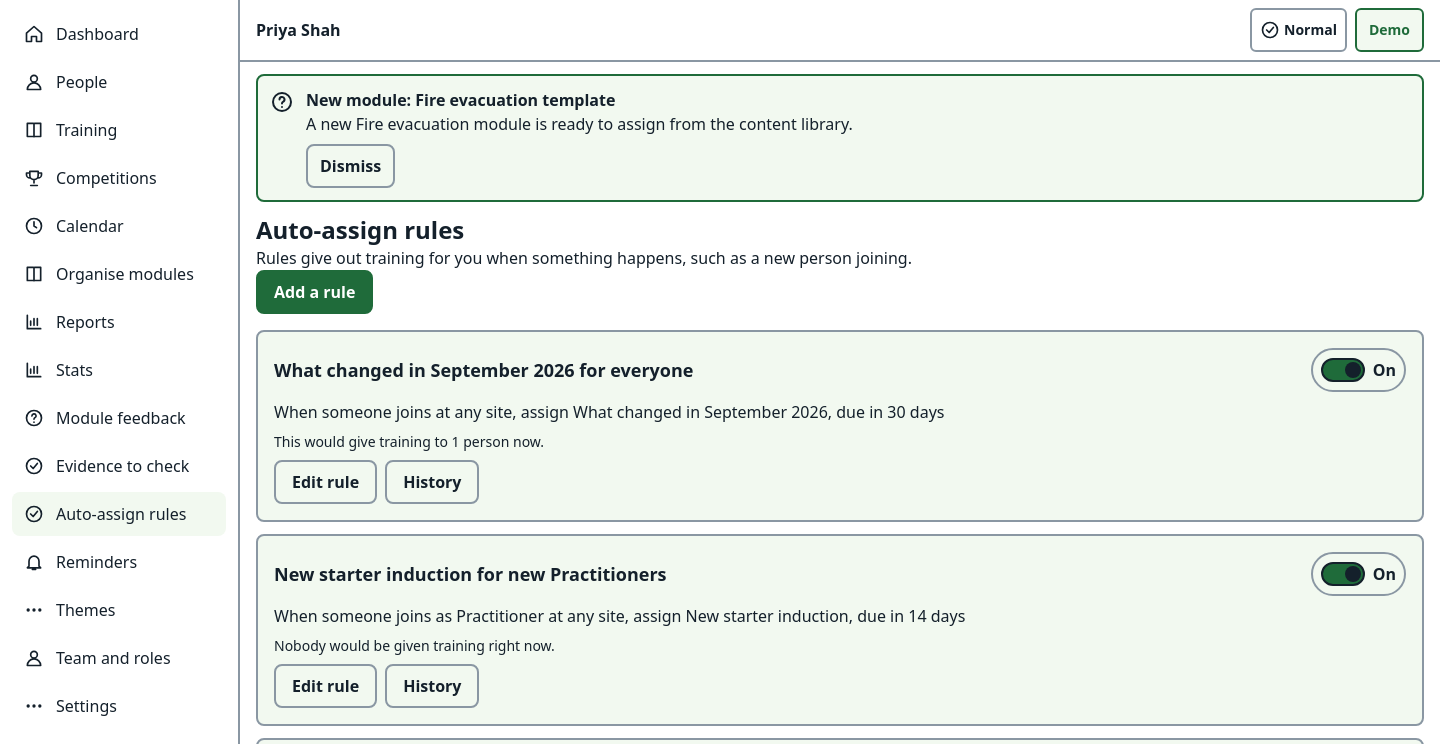
Test: C5 Auto-assign rules › lists who a rule has assigned in its history
Expected: the heading "Auto-assign rules" is shown, [256,214,464,246]
Click the button with aria-label "History: What changed in September 2026 for everyone". click: (432, 482)
box: [385,460,480,504]
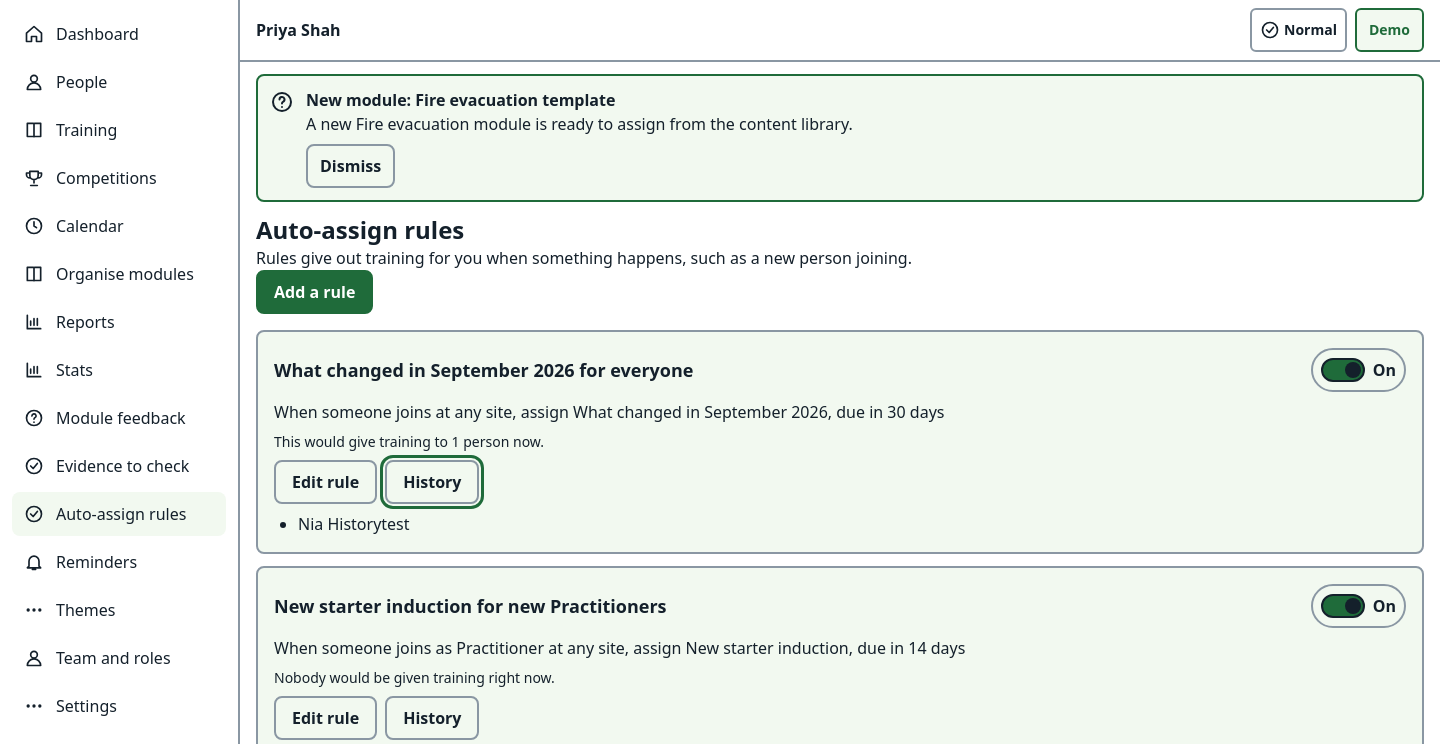
Expected: the list "History" reads "Nia Historytest", [298,513,410,535]
